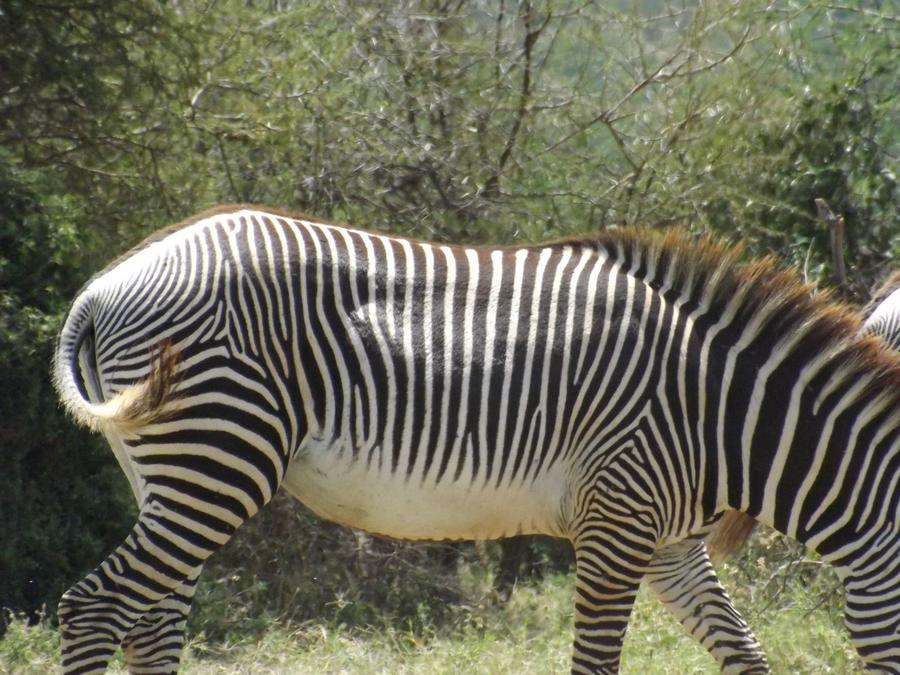zebra_grevys: (68, 182, 689, 540)
